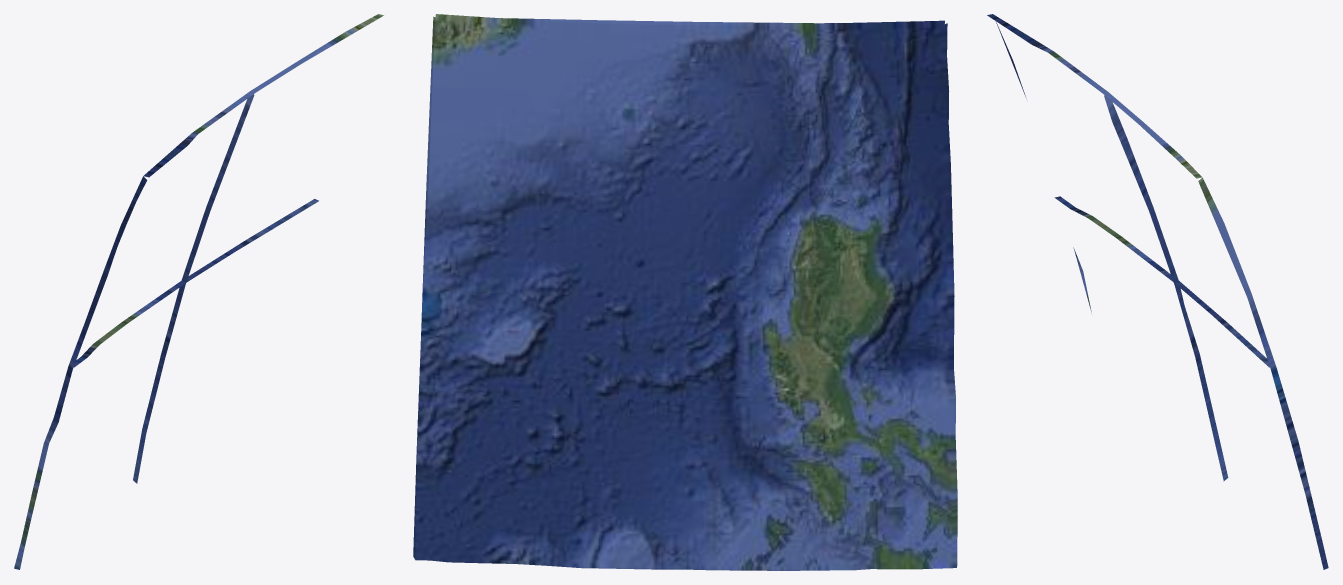
3 renders of one model, left to right at view 1: azimuth 30°, elevation 25°; view 2: azimuth 150°, elevation 25°; view 3: azimuth 270°, elevation 25°, orthographic. The views are drawn at different scales.
Bounding box in the file's own units: 1240540 × 1208041 × 898959.
1 material, 1 textured.
